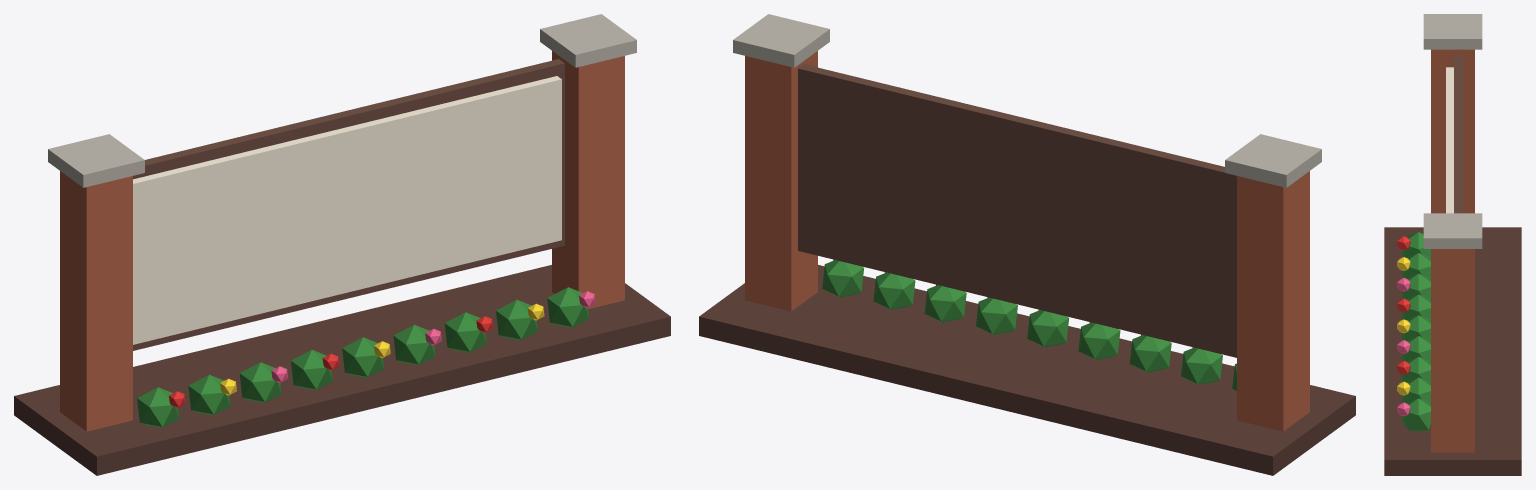
Rendered from exits_welcome.glb.
The picture shows the model from 3 angles, left to right: view 1: azimuth 30°, elevation 25°; view 2: azimuth 150°, elevation 25°; view 3: azimuth 270°, elevation 25°; orthographic projection. The views are drawn at different scales.
Visible parts, largest first — view 1: ExitsWelcome_body; view 2: ExitsWelcome_body; view 3: ExitsWelcome_body.
Part boxes in pixels (x1,y1,x2,y2): ExitsWelcome_body: [14, 14, 670, 475]; ExitsWelcome_body: [699, 14, 1355, 475]; ExitsWelcome_body: [1384, 14, 1521, 475].
Bounding box in the file's own units: 5.6 × 2.62 × 1.4.
